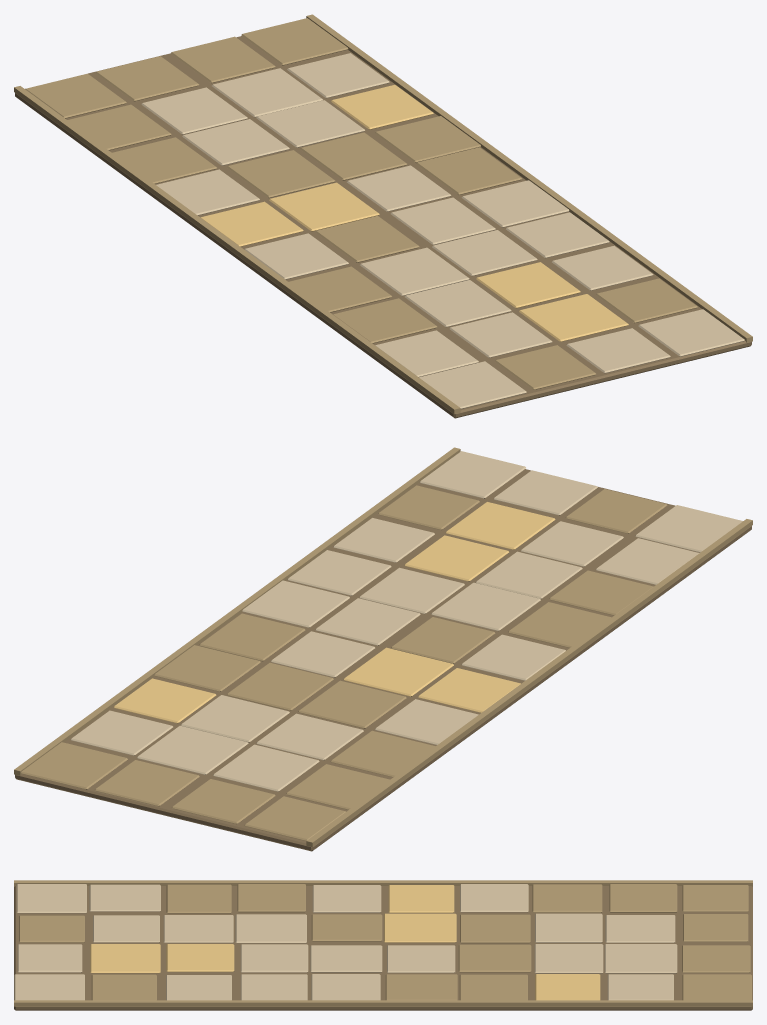
The model's file is hd_rd_stone.gltf.
3 views of the same model, one above another, from view 1: azimuth 30°, elevation 25°; view 2: azimuth 150°, elevation 25°; view 3: azimuth 270°, elevation 25° (orthographic). The views are drawn at different scales.
Visible parts, largest first — view 1: bed, edge0, edge1, flag8_2, flag5_1, flag3_1, flag1_2, flag7_2, flag6_1, flag6_2, flag4_3, flag9_3 (+31 smaller); view 2: bed, edge0, edge1, flag8_2, flag5_1, flag3_1, flag1_2, flag6_1, flag7_2, flag6_2, flag4_3, flag9_3 (+31 smaller); view 3: bed, edge1, edge0, flag8_2, flag5_1, flag3_1, flag6_2, flag1_2, flag0_0, flag6_1, flag7_2, flag7_0 (+31 smaller).
Part boxes in pixels (x1=…): bed: x1=15, y1=36, x2=751, y2=418; edge0: x1=14, y1=86, x2=460, y2=414; edge1: x1=306, y1=14, x2=752, y2=342; flag8_2: x1=212, y1=68, x2=322, y2=117; flag5_1: x1=269, y1=182, x2=379, y2=231; flag3_1: x1=360, y1=247, x2=469, y2=296; flag1_2: x1=519, y1=294, x2=628, y2=341; flag7_2: x1=256, y1=100, x2=364, y2=147; flag6_1: x1=227, y1=150, x2=335, y2=197; flag6_2: x1=300, y1=132, x2=406, y2=180; flag4_3: x1=461, y1=180, x2=569, y2=227; flag9_3: x1=241, y1=18, x2=348, y2=65; bed: x1=15, y1=469, x2=751, y2=851; edge0: x1=306, y1=519, x2=752, y2=847; edge1: x1=14, y1=447, x2=460, y2=775; flag8_2: x1=137, y1=725, x2=248, y2=774; flag5_1: x1=343, y1=647, x2=453, y2=696; flag3_1: x1=431, y1=582, x2=540, y2=631; flag1_2: x1=445, y1=502, x2=555, y2=549; flag6_1: x1=298, y1=680, x2=406, y2=728; flag7_2: x1=181, y1=695, x2=289, y2=742; flag6_2: x1=227, y1=662, x2=333, y2=710; flag4_3: x1=242, y1=580, x2=349, y2=627; flag9_3: x1=21, y1=742, x2=127, y2=789; bed: x1=14, y1=886, x2=752, y2=1010; edge1: x1=14, y1=1000, x2=752, y2=1006; edge0: x1=14, y1=880, x2=752, y2=886; flag8_2: x1=604, y1=944, x2=677, y2=973; flag5_1: x1=384, y1=913, x2=456, y2=942; flag3_1: x1=235, y1=914, x2=306, y2=943; flag6_2: x1=458, y1=944, x2=531, y2=972; flag1_2: x1=90, y1=944, x2=160, y2=973; flag0_0: x1=16, y1=884, x2=86, y2=913; flag6_1: x1=460, y1=914, x2=530, y2=943; flag7_2: x1=534, y1=944, x2=603, y2=973; flag7_0: x1=532, y1=884, x2=602, y2=912.
Size of the model in its own units: 9.4 by 0.3 by 24.
